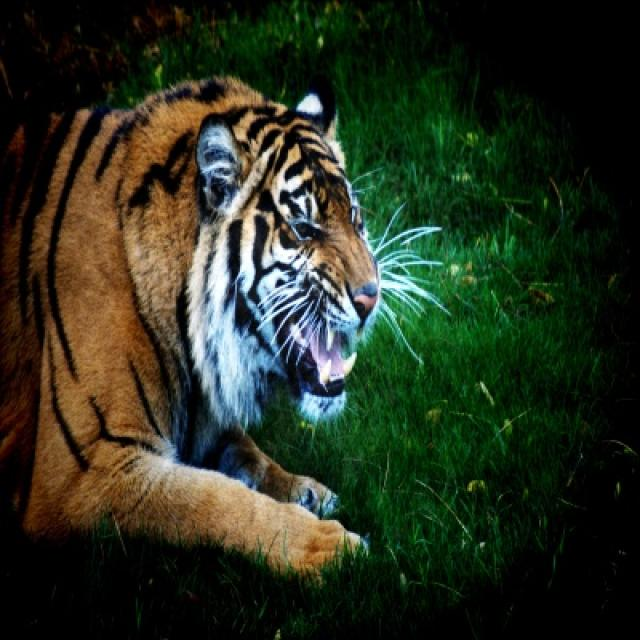Tiger: (0, 77, 384, 570)
